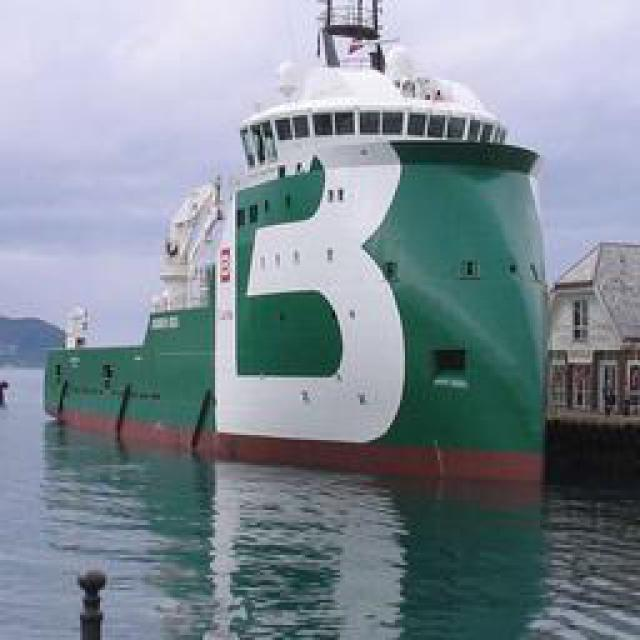Ship: (31, 5, 562, 478)
